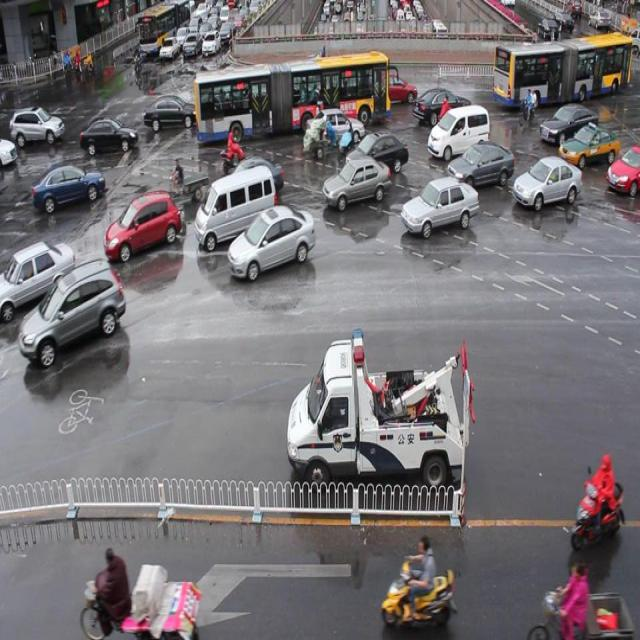bus: (287, 325, 472, 492)
car: (20, 262, 126, 363), (226, 204, 315, 277), (1, 240, 75, 316), (106, 192, 181, 258), (400, 177, 478, 235), (32, 164, 104, 212), (513, 158, 580, 208), (426, 105, 488, 159), (322, 159, 390, 207), (448, 142, 512, 189), (345, 132, 410, 171), (558, 124, 618, 166), (538, 105, 598, 146), (414, 86, 473, 125), (221, 158, 283, 193), (80, 116, 138, 152), (312, 108, 364, 146), (143, 94, 196, 130), (366, 70, 417, 104), (604, 145, 640, 193)
truck: (195, 169, 277, 249)
van: (196, 53, 390, 145), (494, 32, 630, 108)
